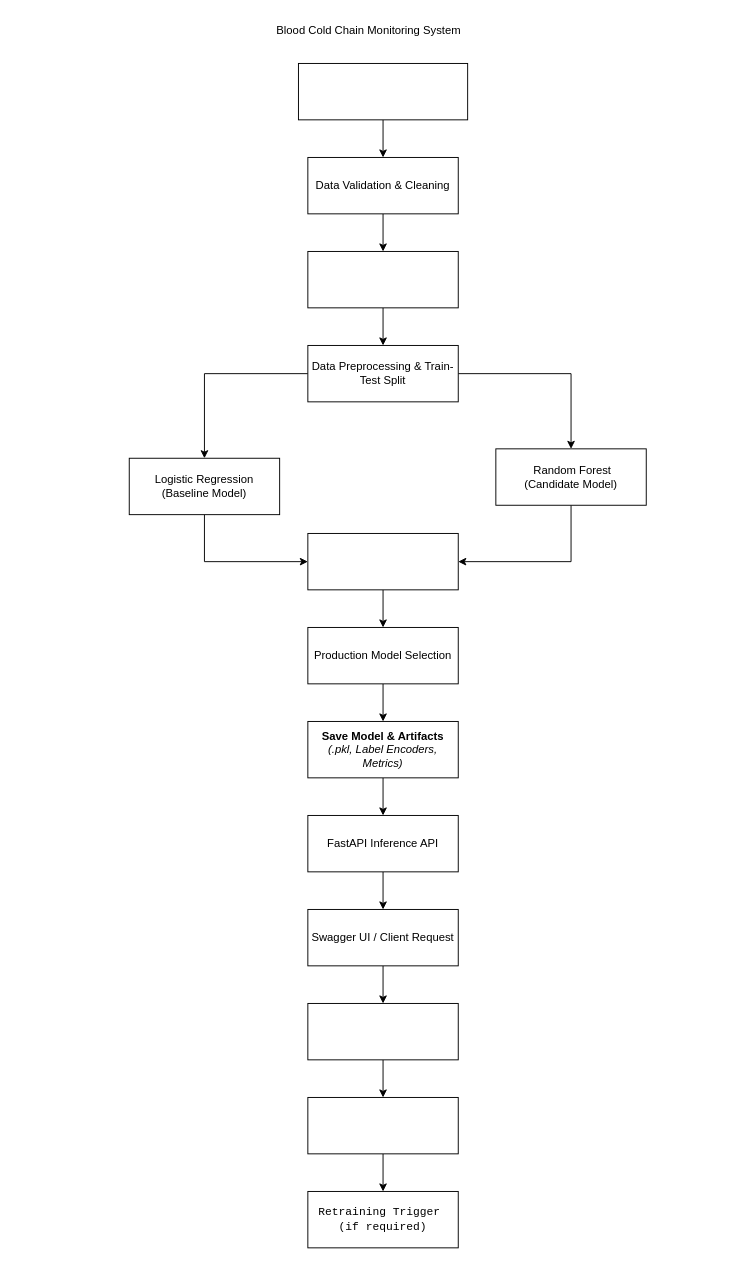
Image size: 737x1264. Some labels were removed from this diagram. The centre of each missing label's shape, as x and y in pixels:
"Blood Bag Telemetry Data (Temperature, Humidity, Door Count, Acceleration)" belongs at (383,91).
"Feature Engineering" belongs at (382,279).
"Model Evaluation" belongs at (382,561).
"Prediction Logging & Monitoring" belongs at (382,1125).
"Safe / Unsafe Prediction + Confidence" belongs at (382,1031).
